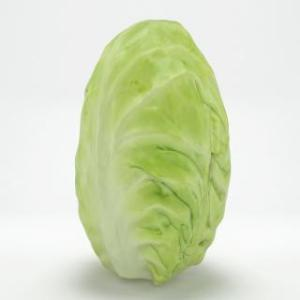cabbage: (74, 13, 232, 286)
